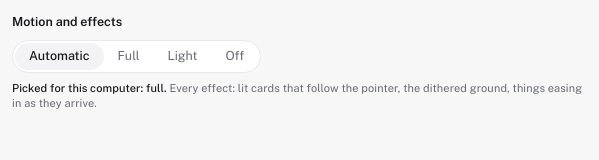
Test: EffectsChoice › saves the pick, applies it at once, and says what it means
This screenshot has width=599, height=160.
Click the radio button labelled "Light": [182, 56] box [154,43,211,70]
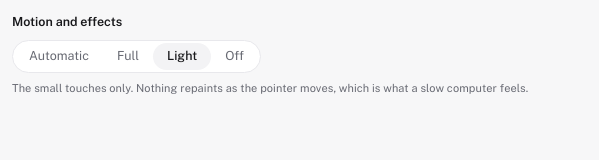
Check: the text "Nothing repaints as the pointer moves" is shown, box [12,82,528,94]
